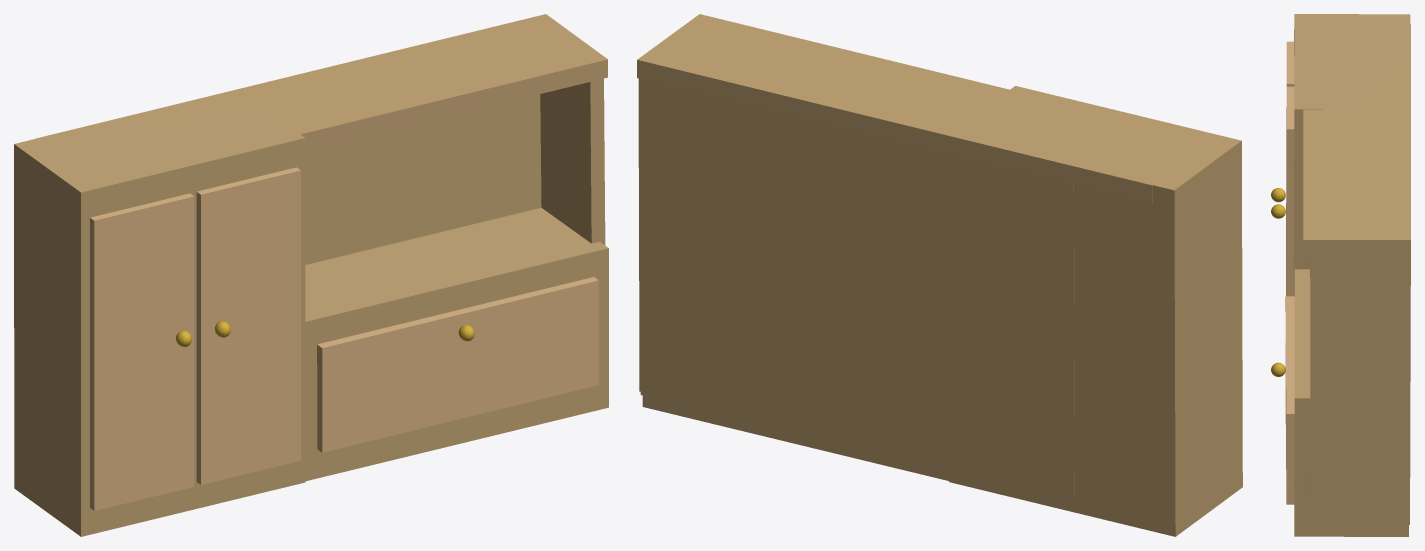
The model's file is Cupboard_2.fbx.
3 renders of one model, left to right at view 1: azimuth 30°, elevation 25°; view 2: azimuth 150°, elevation 25°; view 3: azimuth 270°, elevation 25°, orthographic. The views are drawn at different scales.
Parts seen in each view (by area): view 1: Sphere.002; view 2: Sphere.002; view 3: Sphere.002.
Boxes of the visible parts, box(x1,y1,x2,y2) form: Sphere.002: box(14, 14, 608, 536); Sphere.002: box(637, 14, 1242, 536); Sphere.002: box(1271, 14, 1410, 536).
Bounding box in the file's own units: 8.98 × 5.52 × 2.34.
